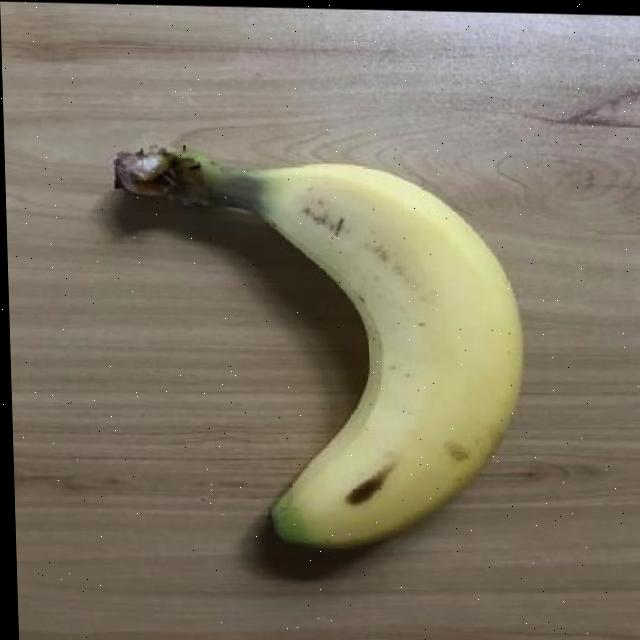banana: (108, 142, 533, 556)
